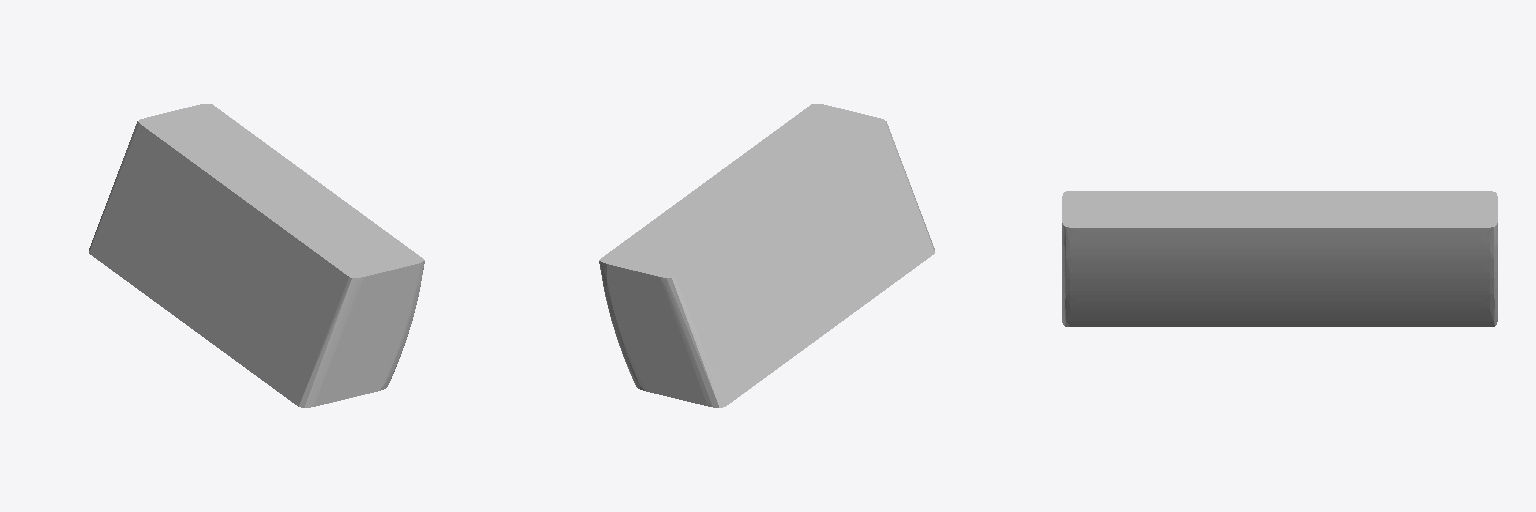
Rendered from Cylinder_with_Hole_collision_3.obj.
The picture shows the model from 3 angles: view 1: azimuth 30°, elevation 25°; view 2: azimuth 150°, elevation 25°; view 3: azimuth 270°, elevation 25°; orthographic projection.
Size of the model in its own units: 47.21 by 42.62 by 143.